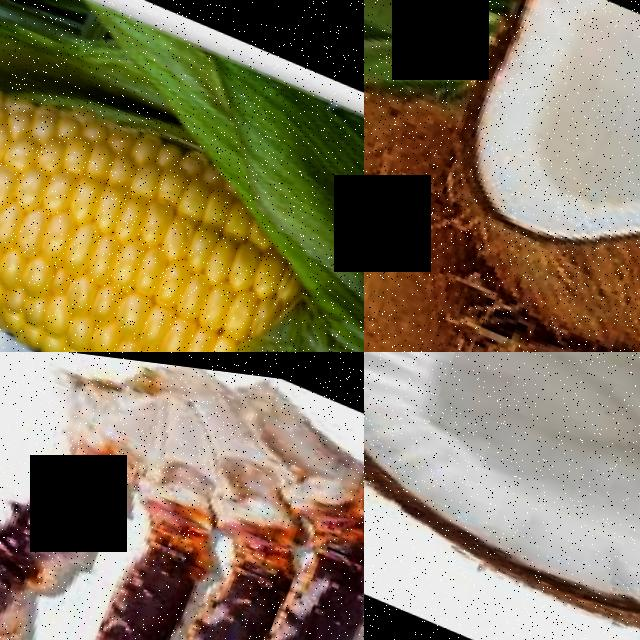coconut: (399, 0, 640, 352), (364, 352, 640, 640), (364, 40, 527, 352)
corn: (0, 32, 302, 352)
crab: (2, 376, 364, 640), (0, 358, 158, 640)
